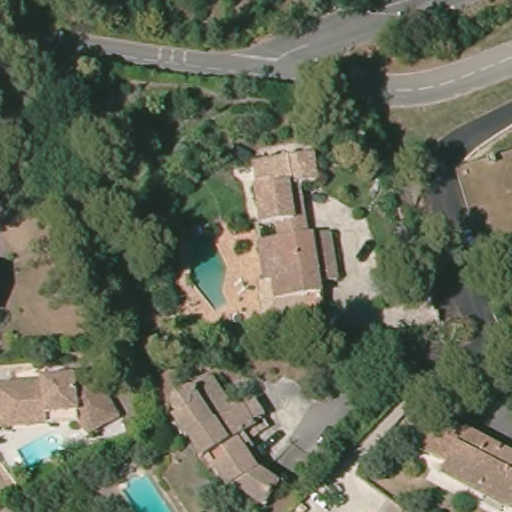pool: (183, 240, 234, 315), (116, 467, 174, 512), (14, 429, 69, 473)
